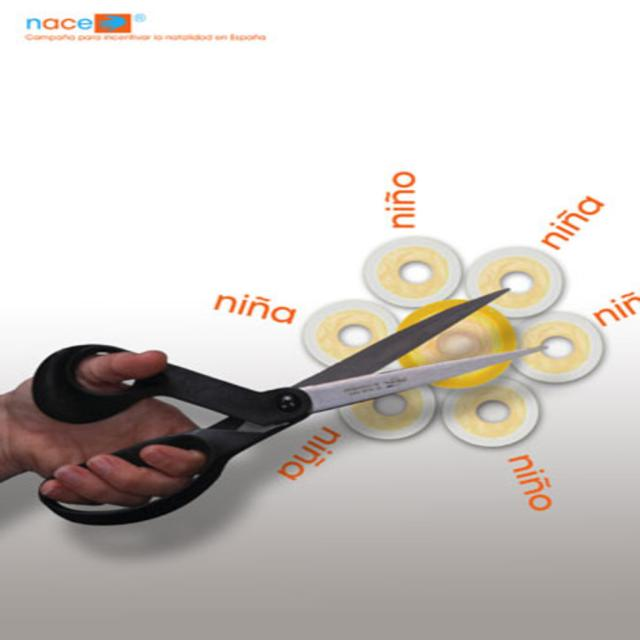scissors: (31, 286, 551, 526)
